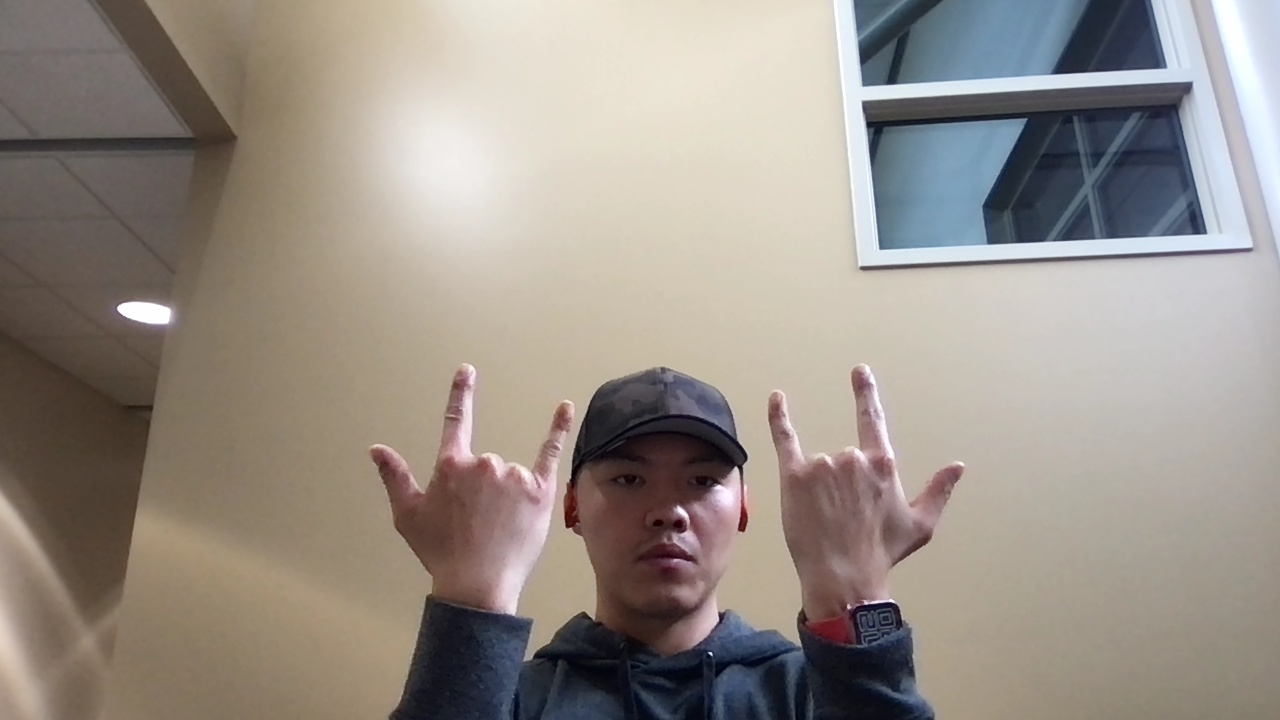I Love You: (358, 358, 597, 603), (760, 359, 1004, 595)
